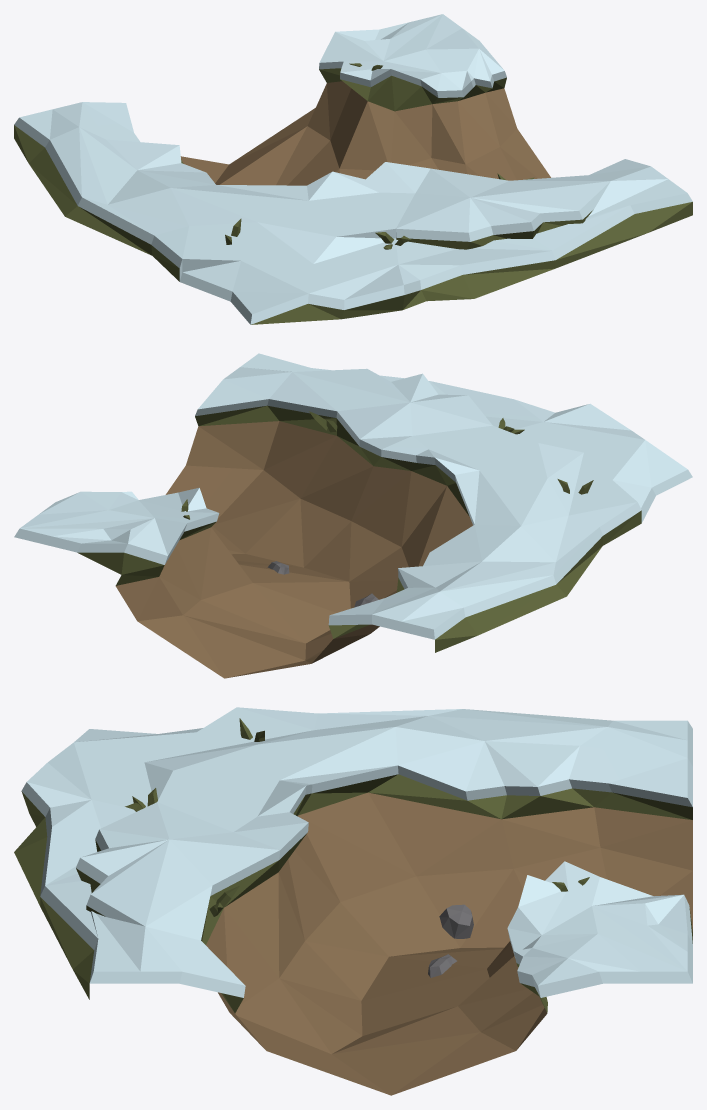
File: SM_Env_Stream_Corner_01_Snow.gltf
The picture shows the model from 3 angles, top to bottom: view 1: azimuth 30°, elevation 25°; view 2: azimuth 150°, elevation 25°; view 3: azimuth 270°, elevation 25°; orthographic projection. The views are drawn at different scales.
Visible parts, largest first — view 1: SM_Env_Stream_Corner_01_Snow; view 2: SM_Env_Stream_Corner_01_Snow; view 3: SM_Env_Stream_Corner_01_Snow.
Part boxes in pixels (x1,y1,x2,y2): SM_Env_Stream_Corner_01_Snow: (14,14,692,324); SM_Env_Stream_Corner_01_Snow: (14,353,692,678); SM_Env_Stream_Corner_01_Snow: (14,707,692,1095).
Bounding box in the file's own units: 5.49 × 1.37 × 5.63.
Materials: 1 (1 with a texture image).
